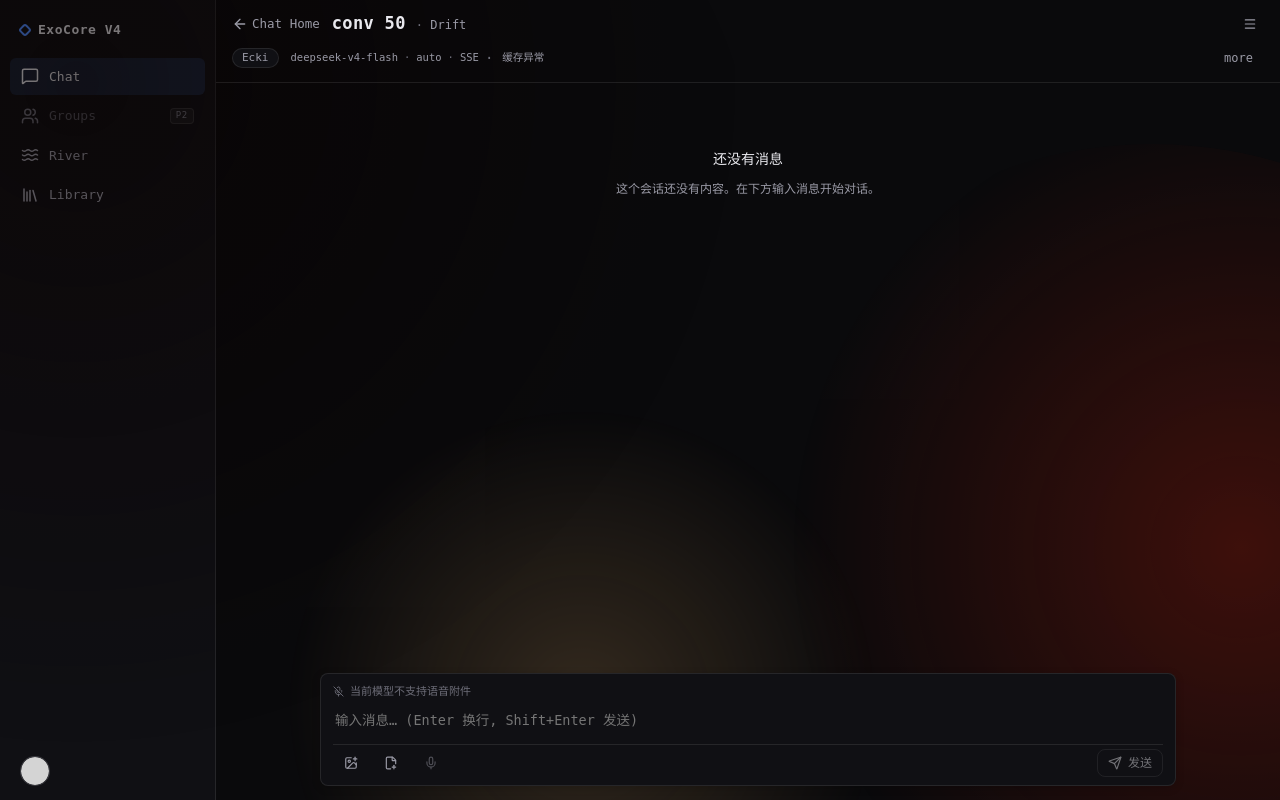
Test: attachment manager turn-end refresh (#77) › re-lists when the run settles so an anchored tool result appears
The image size is (1280, 800).
In the text box named "消息输入框": (748, 720) 333,708 -> 1163,732, type "搜一下这个仓库"
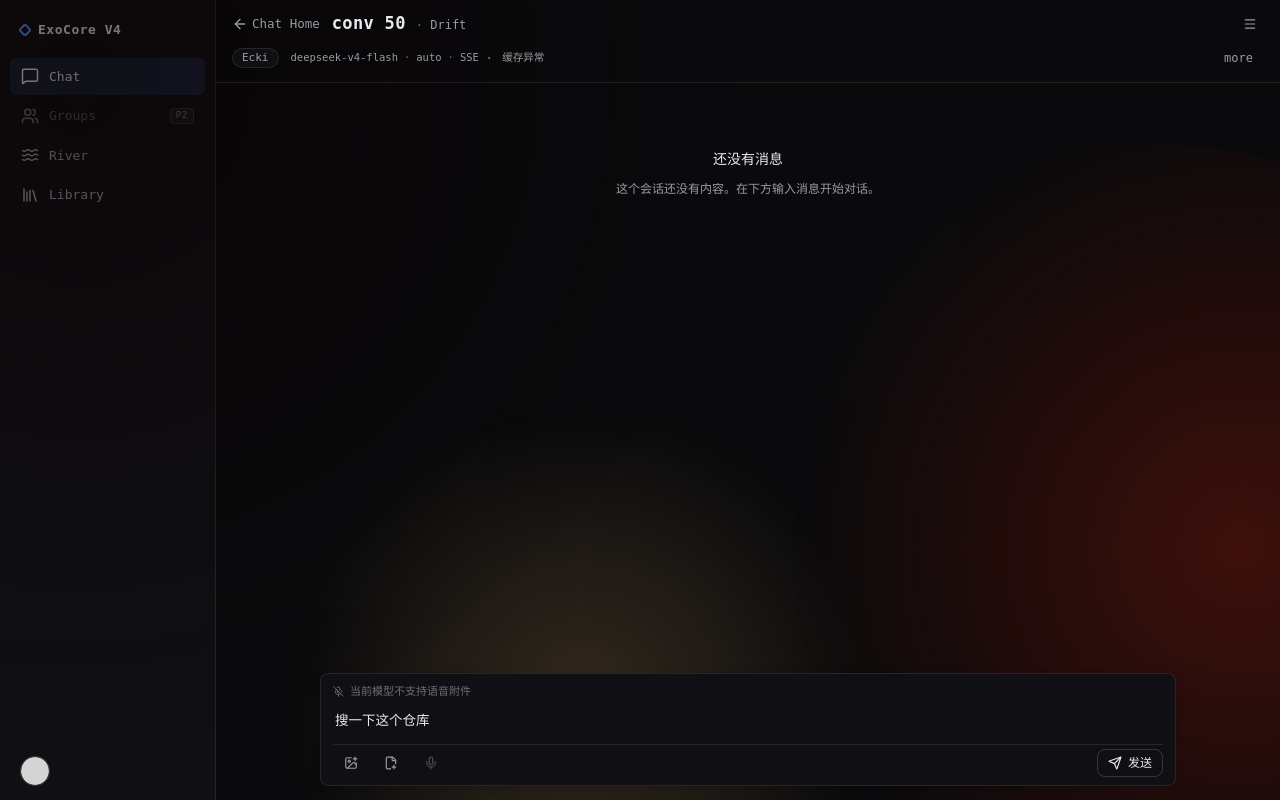
Press Enter in the text box named "消息输入框", box 333,708 -> 1163,732
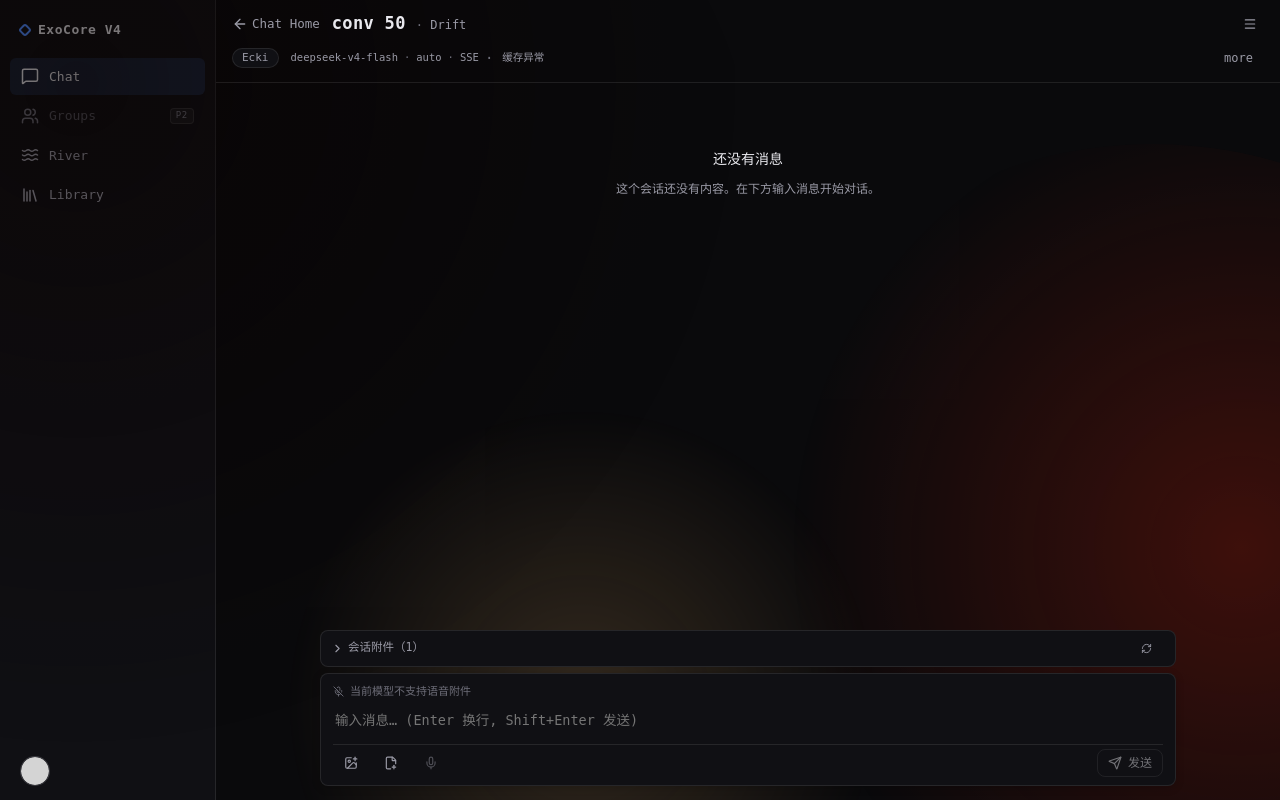
Expected: the text "会话附件（1）" is shown, 348,639 -> 424,657
